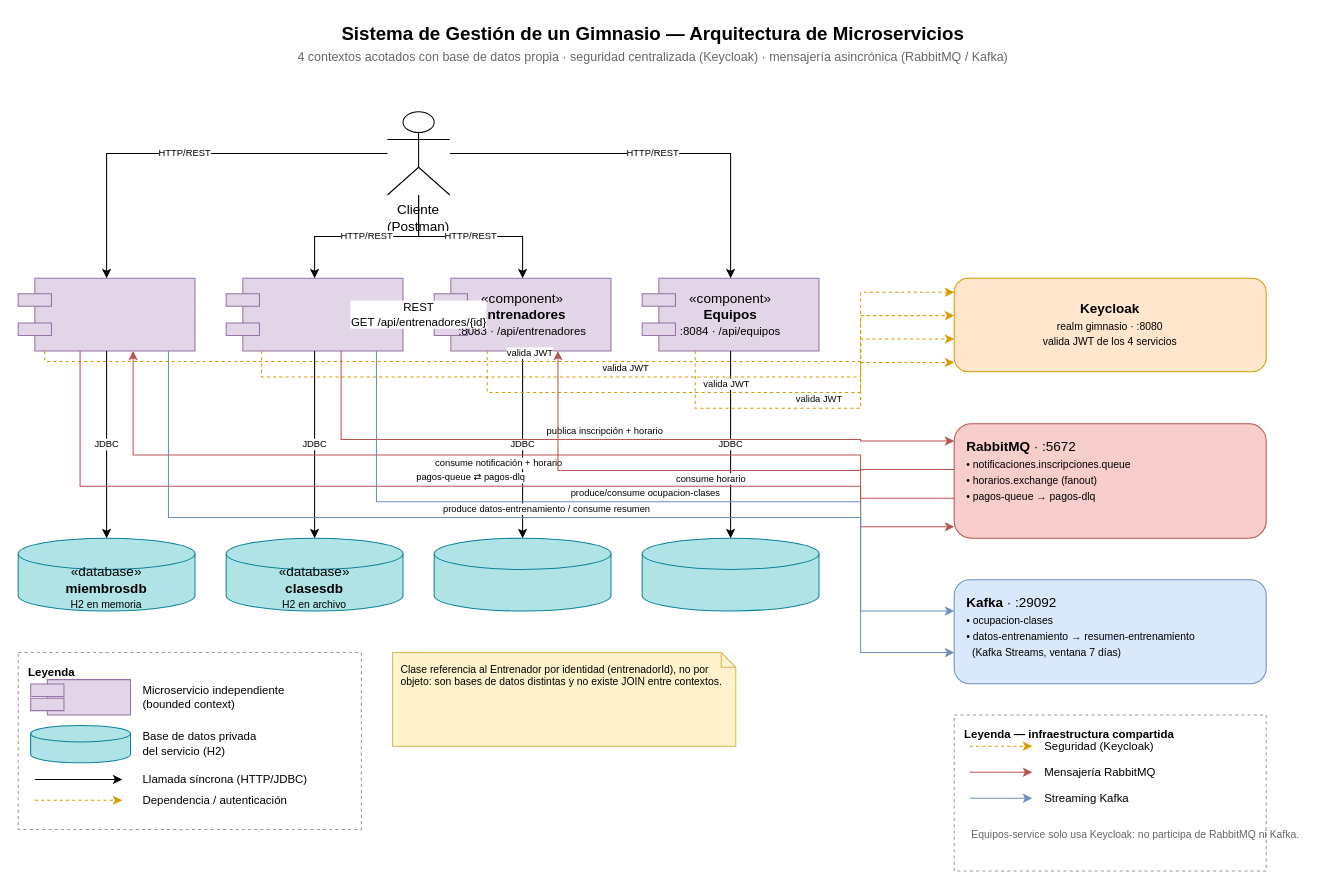
Some shapes in this 1318 by 889 pixel diagram are drawn without their labels. Each missing label, with the box of its shape:
«component»: (30, 679, 131, 715)
«component» Clases :8082 · /api/clases: (225, 277, 403, 351)
«component» Miembros :8081 · /api/miembros: (17, 277, 195, 351)
«database»: (30, 724, 131, 763)
«database» entrenadoresdb H2 en memoria: (433, 537, 611, 611)
«database» equiposdb H2 en memoria: (641, 537, 819, 611)
